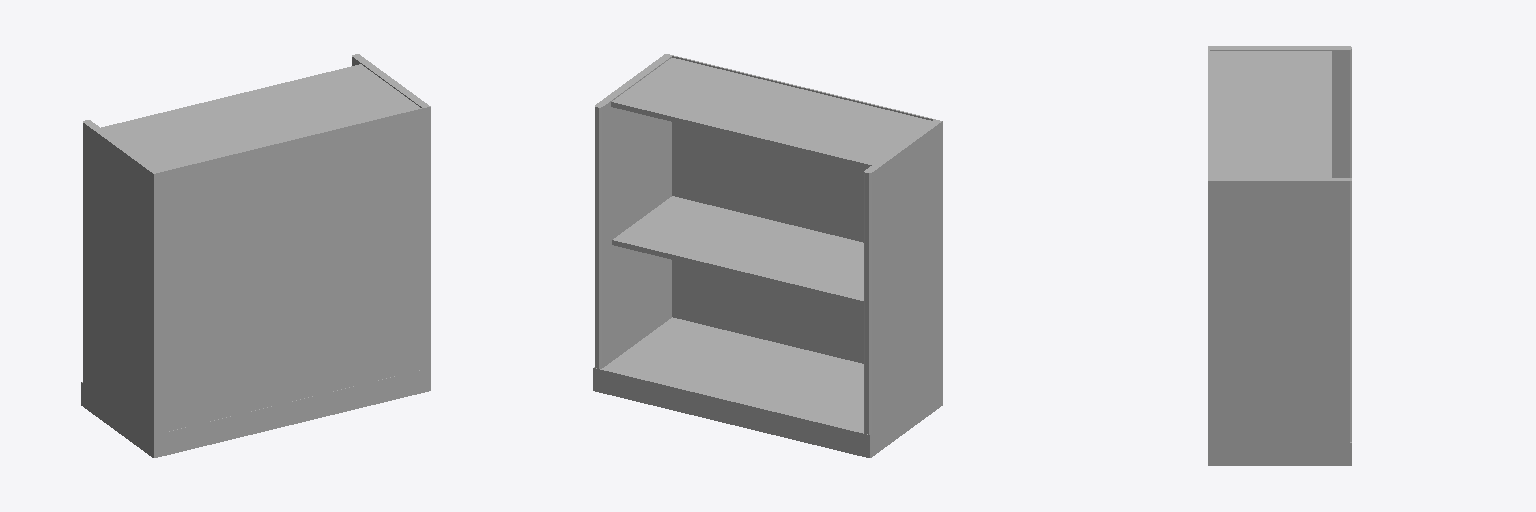
Rendered from shelf01.obj.
3 renders of one model, left to right at view 1: azimuth 30°, elevation 25°; view 2: azimuth 150°, elevation 25°; view 3: azimuth 270°, elevation 25°, orthographic.
Visible parts, largest first — view 1: mesh; view 2: mesh; view 3: mesh.
Boxes of the visible parts, <box> form: mesh: <box>81,54,430,457</box>; mesh: <box>593,54,942,457</box>; mesh: <box>1208,46,1351,465</box>.
Bounding box in the file's own units: 62.64 × 61.52 × 28.38.